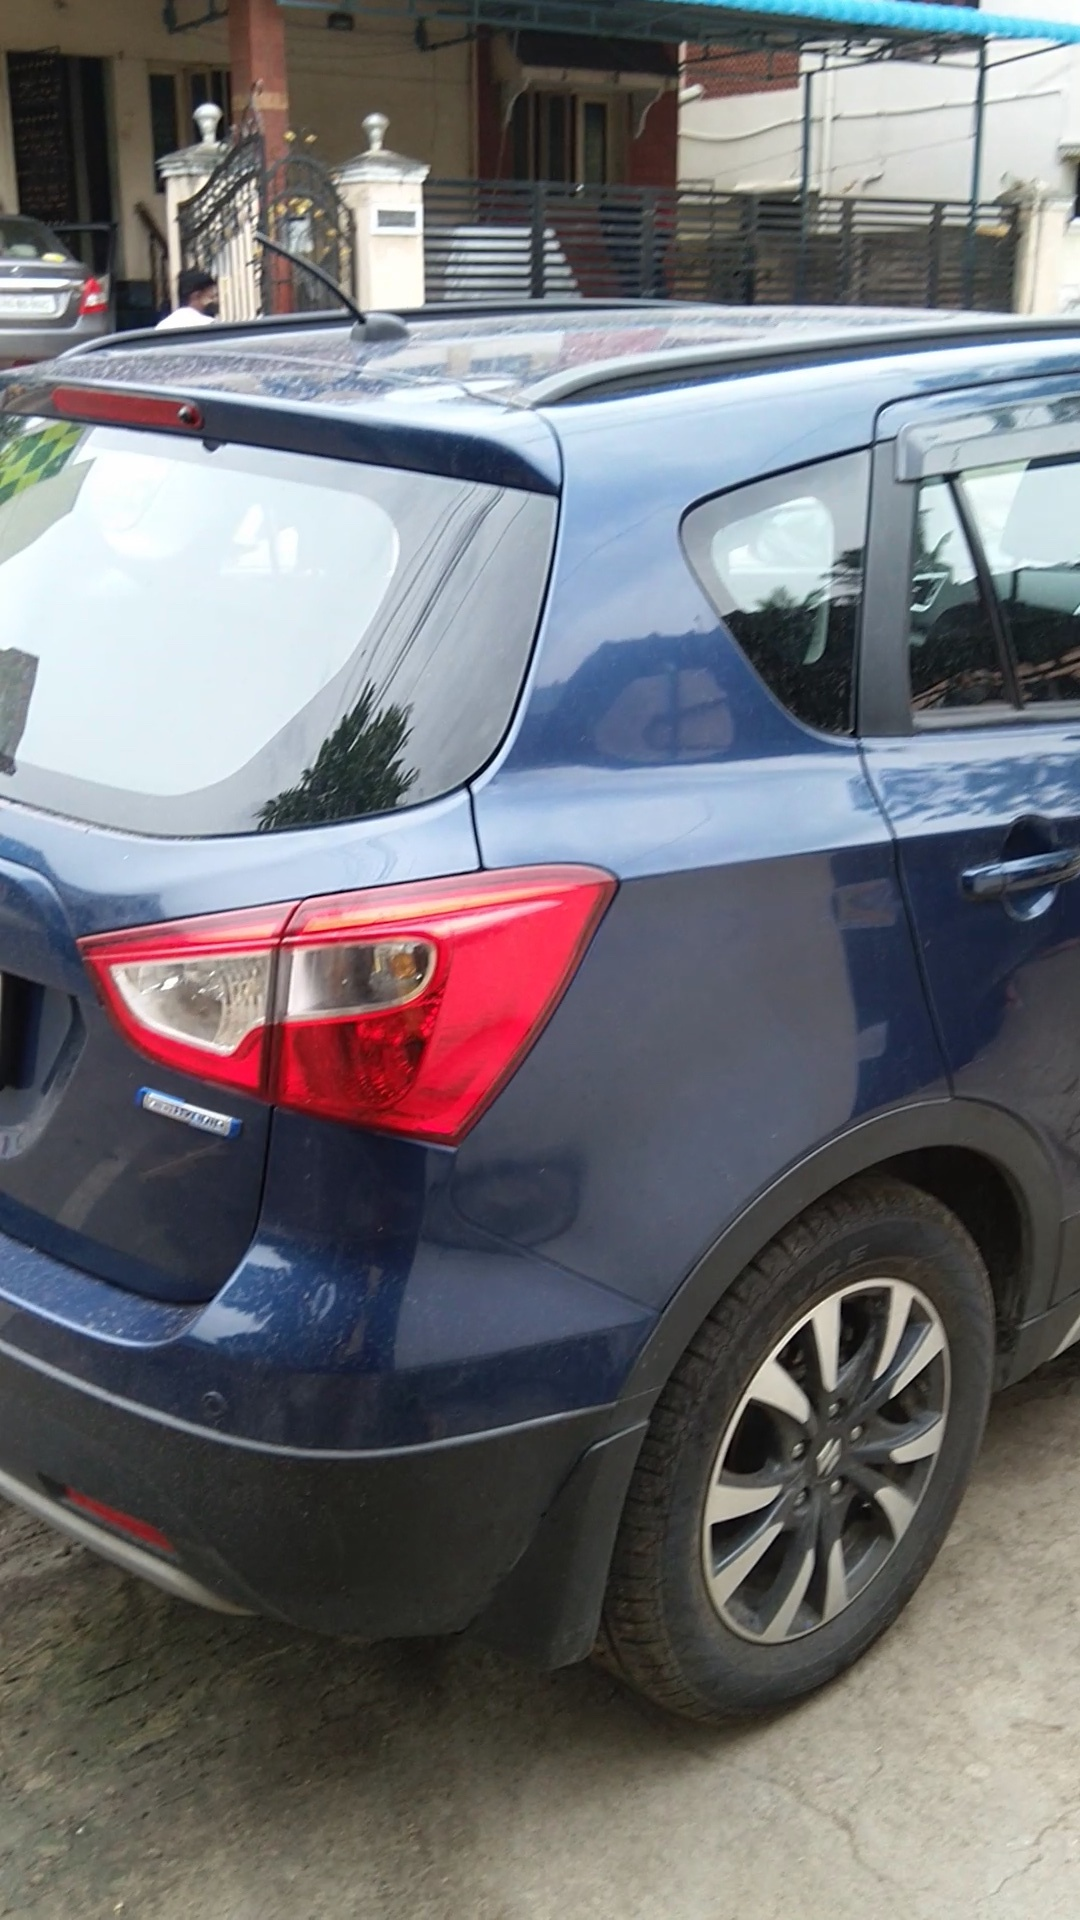alloy_wheel: (611, 1197, 1011, 1725)
rear_camera: (166, 397, 208, 430)
shvs: (121, 1083, 255, 1162)
